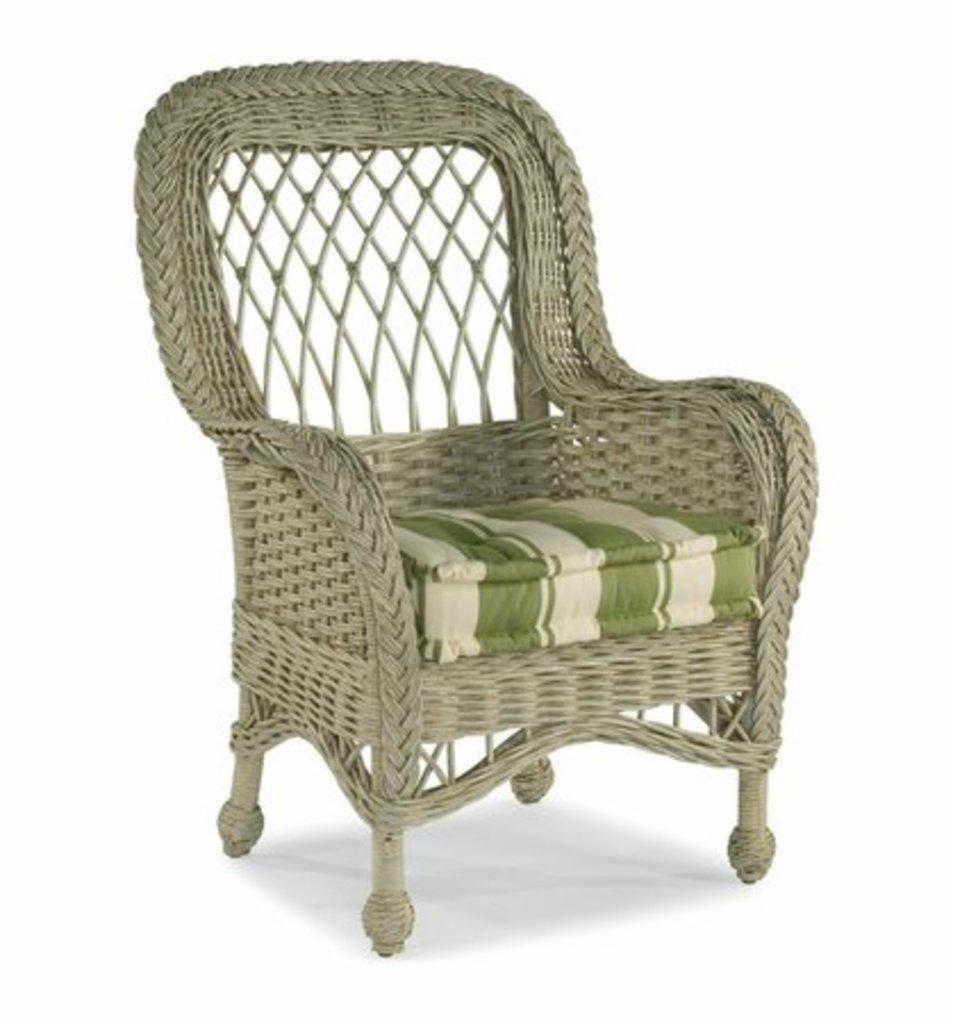Chair: (121, 48, 817, 958)
